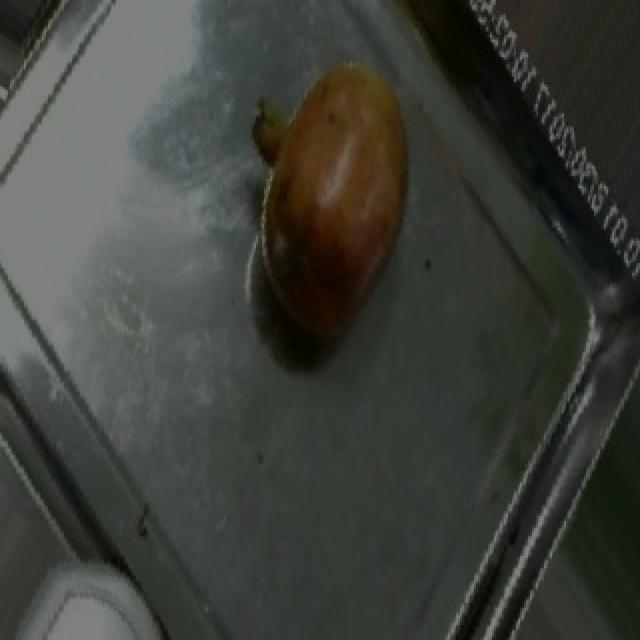fruit: (228, 32, 438, 320)
